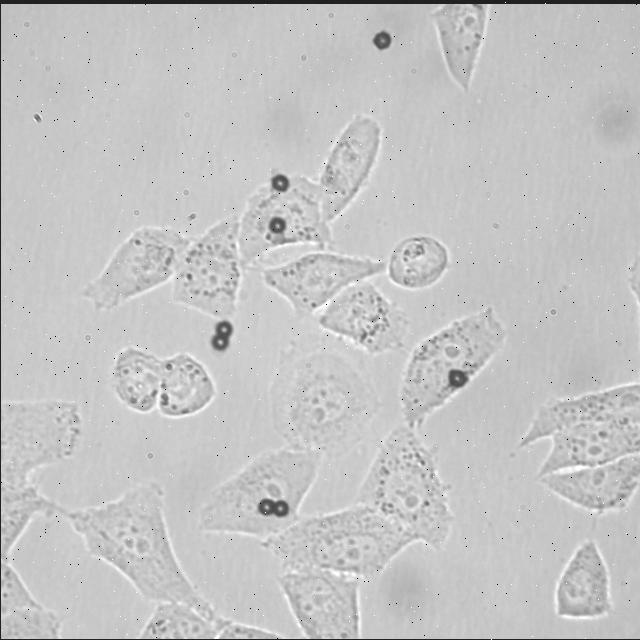microbeads: (442, 368, 468, 392), (209, 330, 233, 352), (255, 491, 273, 519), (270, 172, 292, 192), (214, 318, 232, 340), (375, 29, 393, 49), (270, 496, 288, 514), (268, 213, 286, 230)
